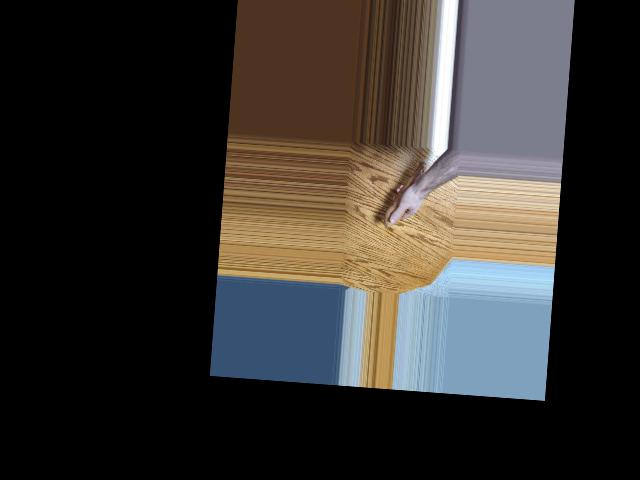sweet_potato: (385, 157, 428, 226)
